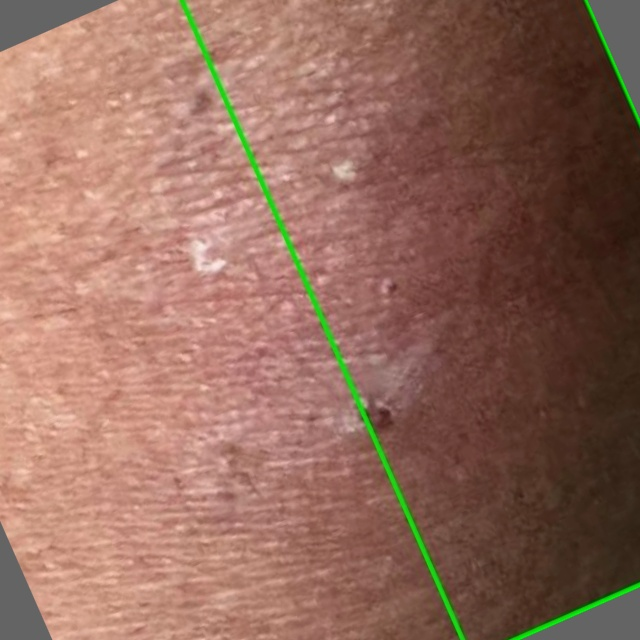Tinea Corporis: (180, 0, 639, 639)
